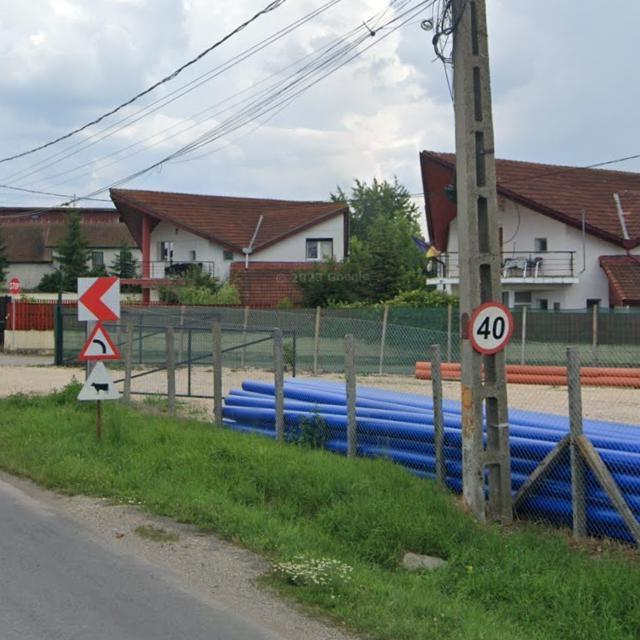forb_speed_over_40: (468, 302, 514, 354)
prio_stop: (9, 278, 21, 295)
